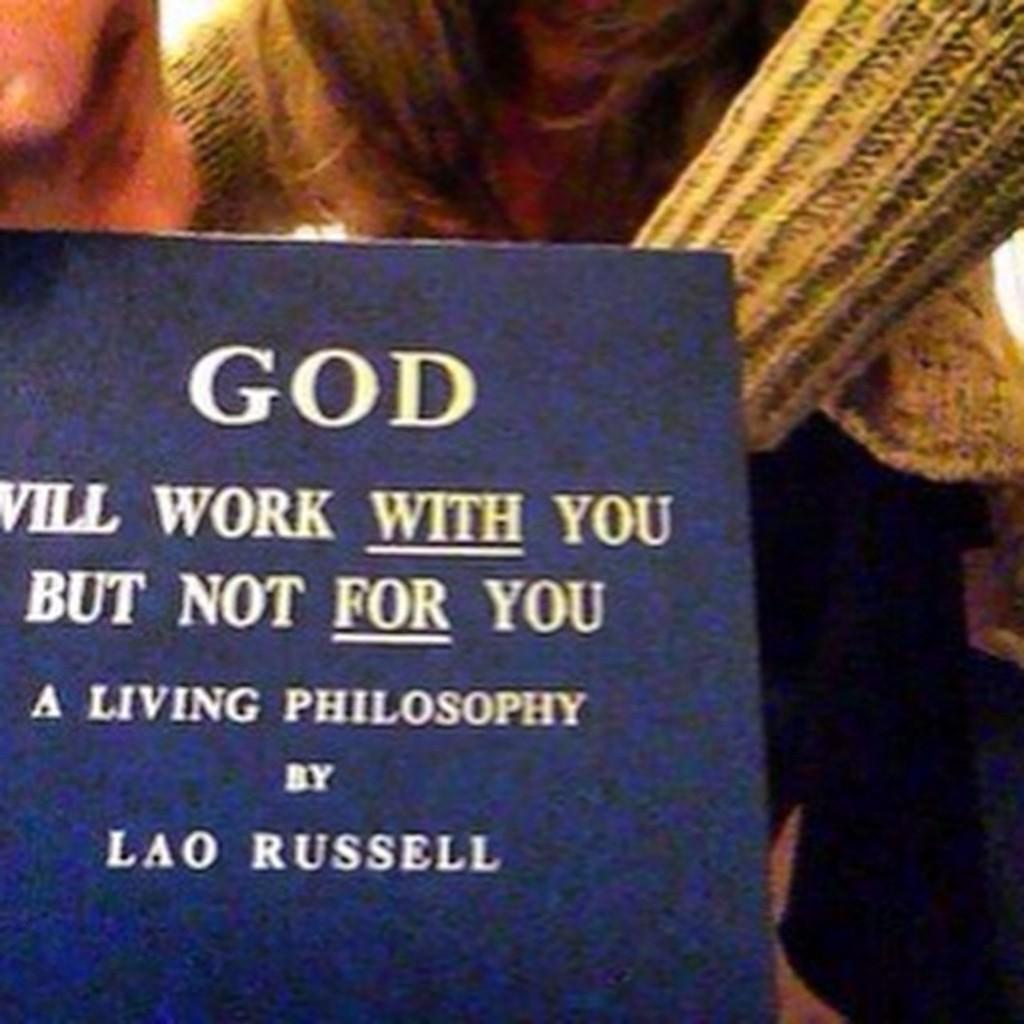Book: (0, 192, 830, 1019)
